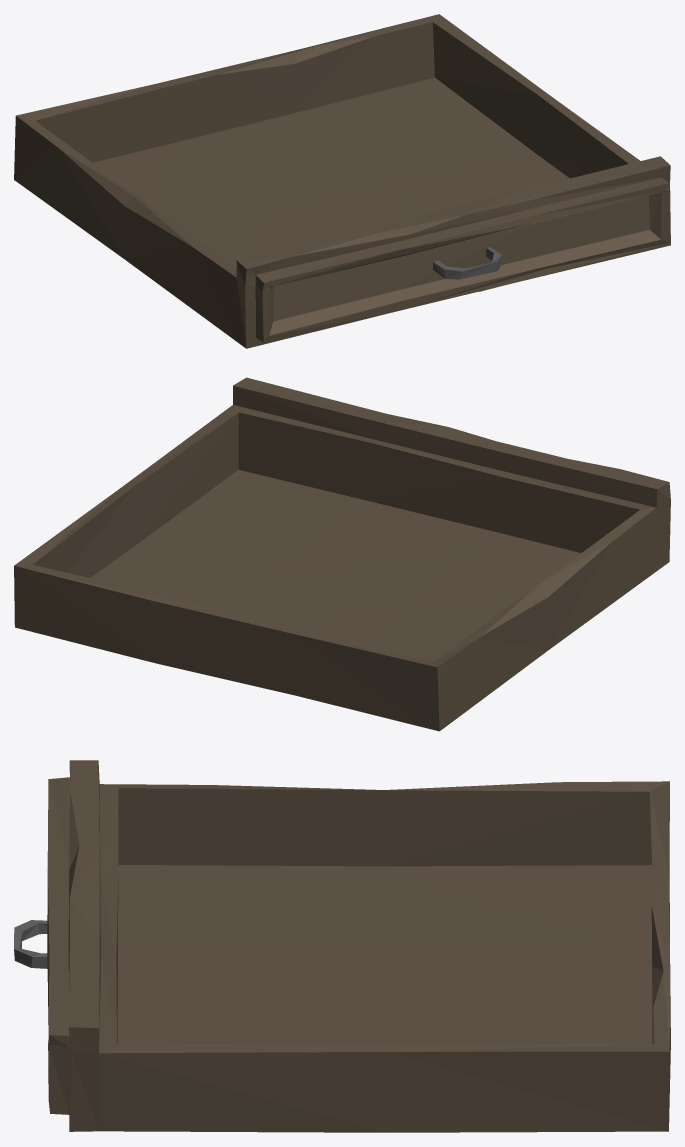
The model's file is SFHW_Table_004_Cabinet.fbx.
3 views of the same model, one above another, from view 1: azimuth 30°, elevation 25°; view 2: azimuth 150°, elevation 25°; view 3: azimuth 270°, elevation 25° (orthographic). The views are drawn at different scales.
Visible parts, largest first — view 1: SFHW_Table_004_Cabinet; view 2: SFHW_Table_004_Cabinet; view 3: SFHW_Table_004_Cabinet.
Boxes of the visible parts, <box> form: SFHW_Table_004_Cabinet: <box>14,14,670,348</box>; SFHW_Table_004_Cabinet: <box>14,377,670,731</box>; SFHW_Table_004_Cabinet: <box>14,760,670,1132</box>.
Size of the model in its own units: 43.53 by 7.94 by 44.75.
